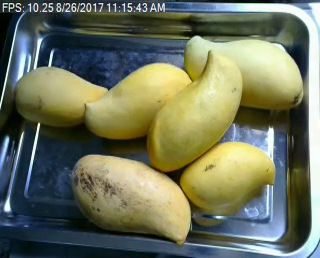Mango: (149, 49, 243, 173), (71, 155, 188, 244), (182, 37, 305, 110), (84, 62, 199, 138), (177, 140, 275, 209), (12, 65, 107, 127)
